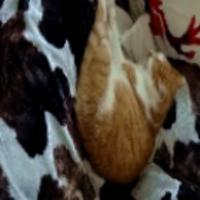asleep: (68, 0, 188, 191)
